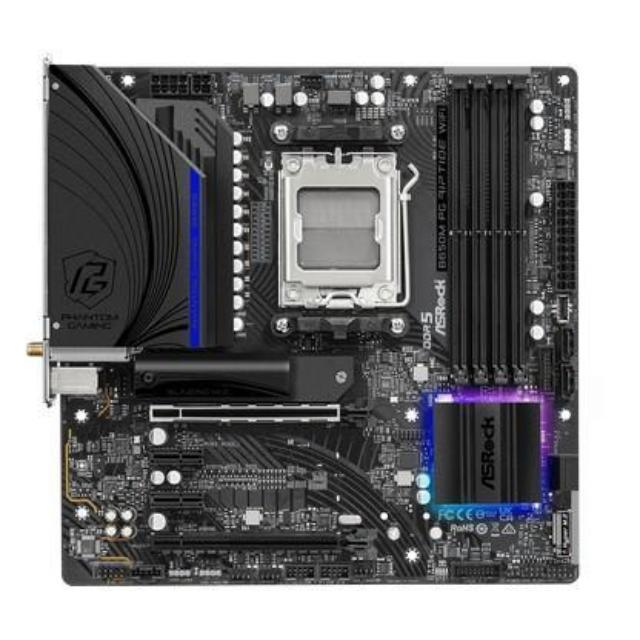Mainboard: (32, 49, 590, 596)
